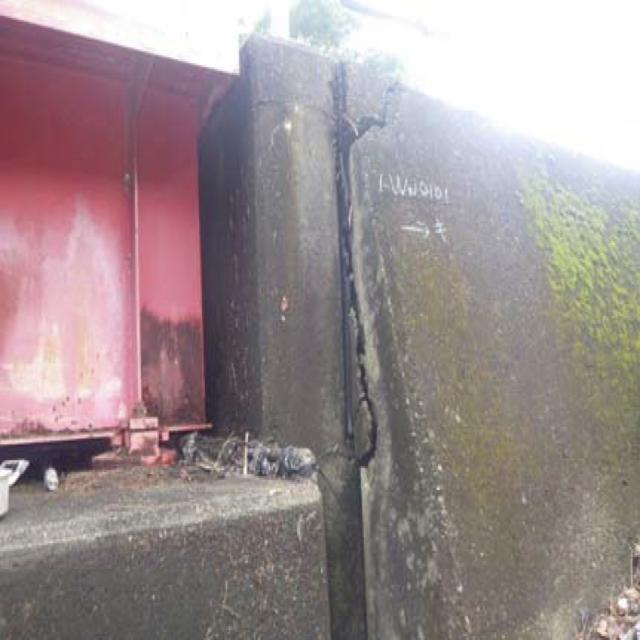crack: (321, 47, 400, 500)
